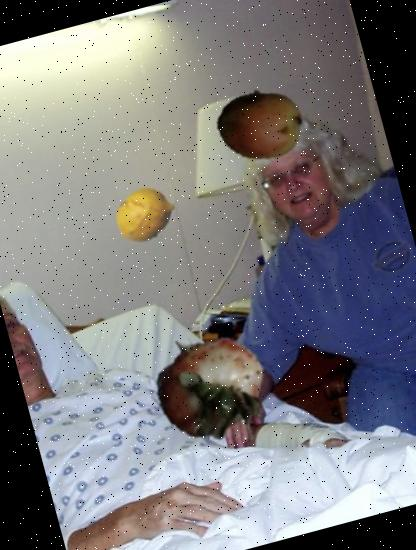Lemon: (107, 178, 182, 252)
Papaya: (206, 70, 314, 178)
Strawberry: (137, 314, 290, 468)
